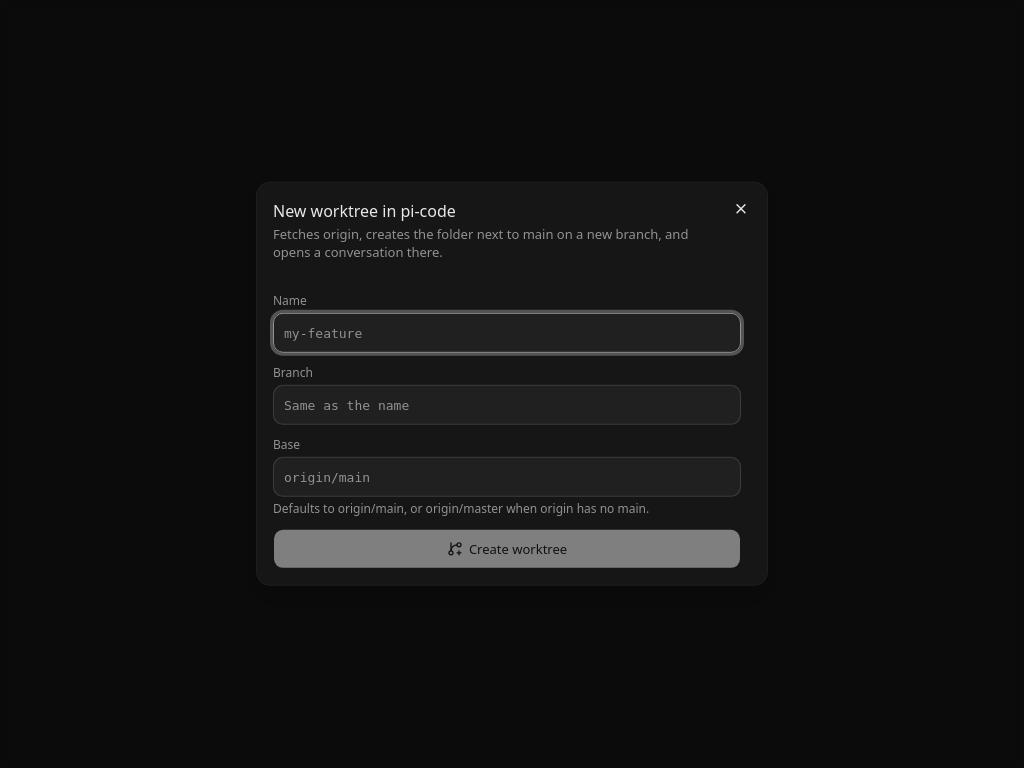
Test: NewWorktreeSheet › shows the server's 409 error inline and clears it on edit
The image size is (1024, 768).
Type "dup" into the field labelled "Name" at (507, 333), box left=273, top=313, right=741, bottom=353
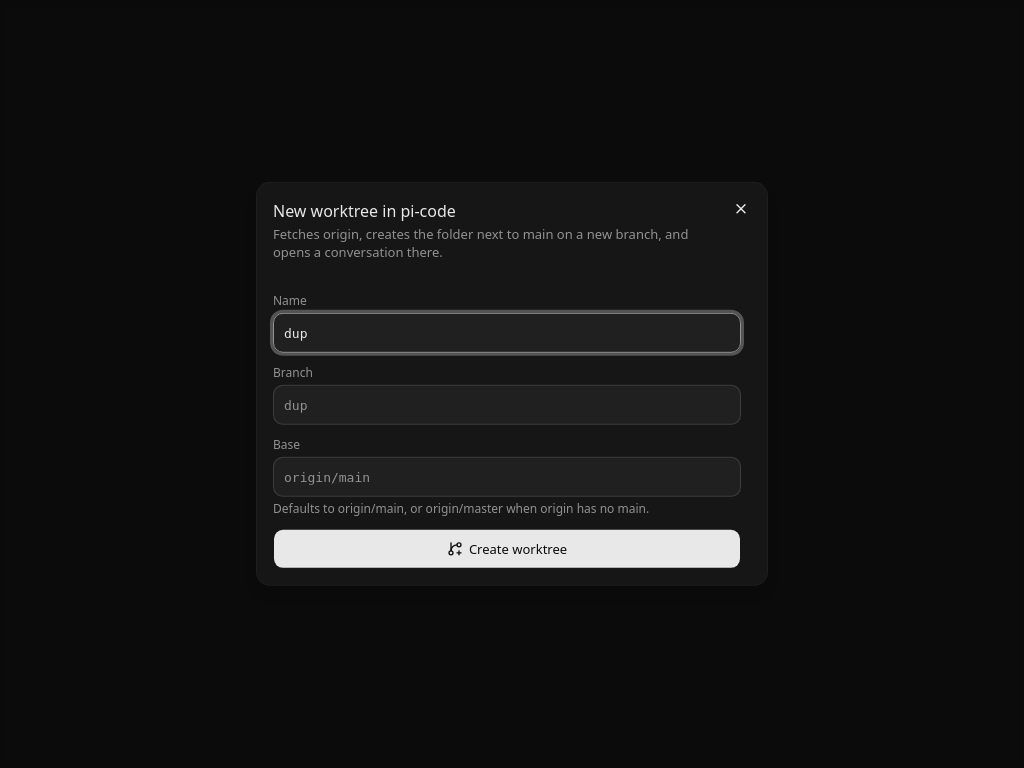
Click the button "Create worktree" at (507, 549), box left=273, top=529, right=741, bottom=569
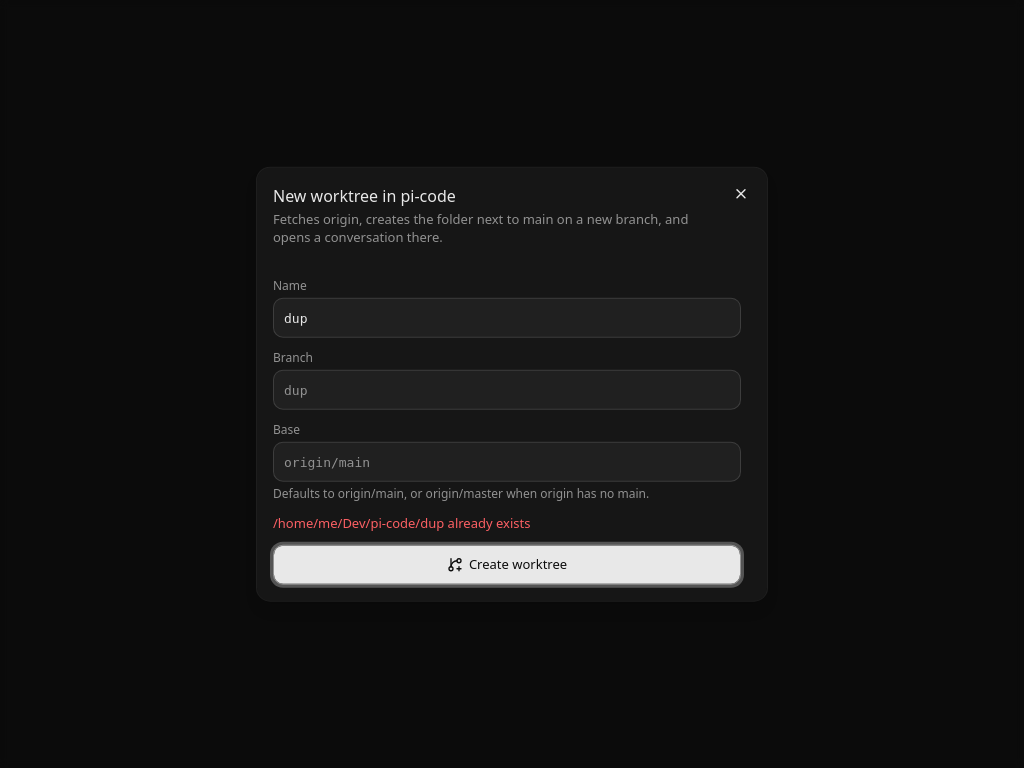
Type "x" into the field labelled "Base" at (507, 462), box left=273, top=442, right=741, bottom=482
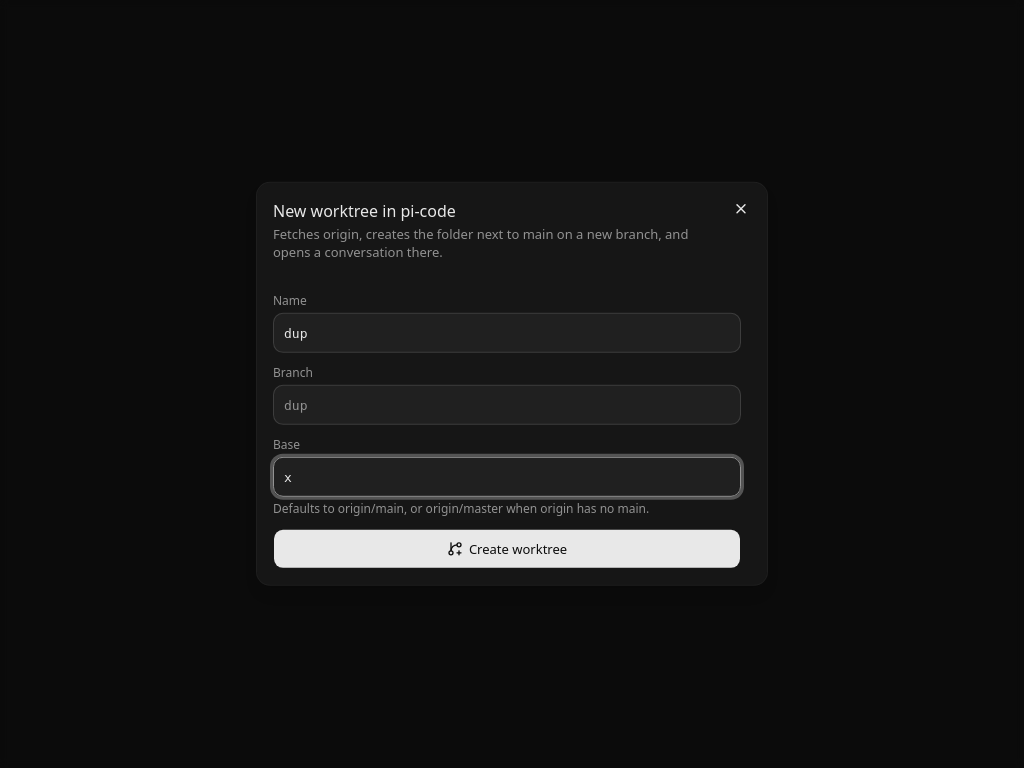
Expected: the message "/home/me/Dev/pi-code/dup already exists" is gone
